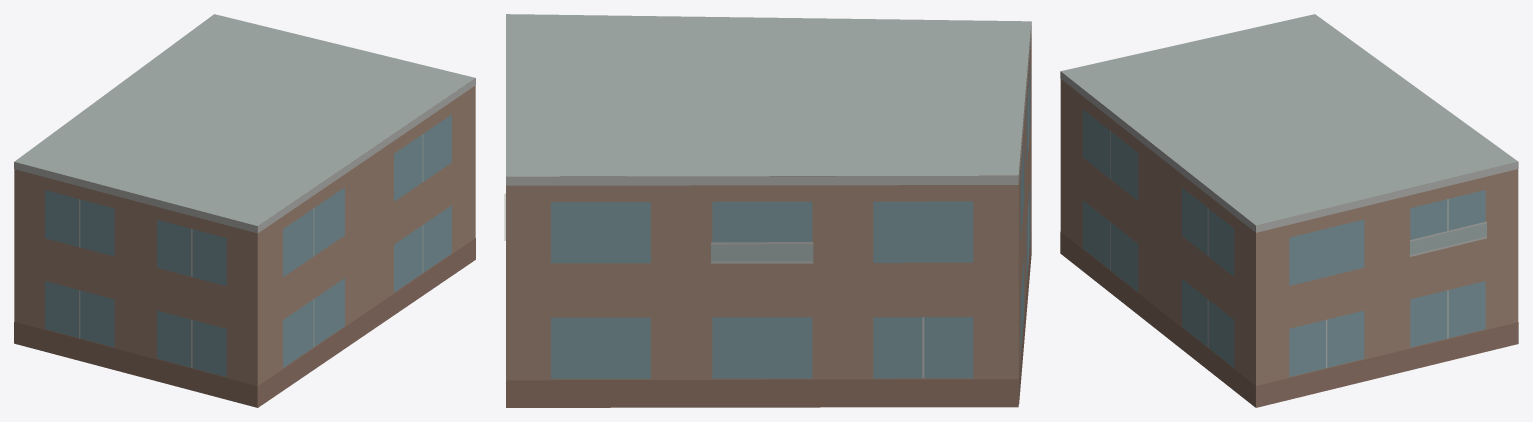
Rendered from survey-upis-32674345.glb.
3 renders of one model, left to right at view 1: azimuth 30°, elevation 25°; view 2: azimuth 150°, elevation 25°; view 3: azimuth 270°, elevation 25°, orthographic. The views are drawn at different scales.
Parts seen in each view (by area): view 1: survey-upis-32674345.tmp; view 2: survey-upis-32674345.tmp; view 3: survey-upis-32674345.tmp.
Part boxes in pixels (left/top/right/bottom): survey-upis-32674345.tmp: left=14, top=14, right=475, bottom=407; survey-upis-32674345.tmp: left=504, top=14, right=1031, bottom=407; survey-upis-32674345.tmp: left=1060, top=14, right=1518, bottom=407.
Bounding box in the file's own units: 15.19 × 6.1 × 13.9.
